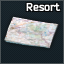Shoreline Health Resort plan map: (0, 0, 64, 64)
